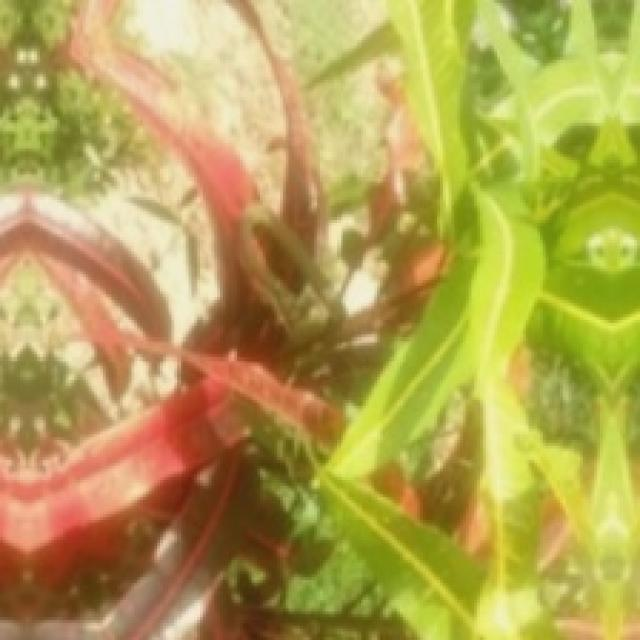paradise tree snake: (0, 0, 340, 637)
